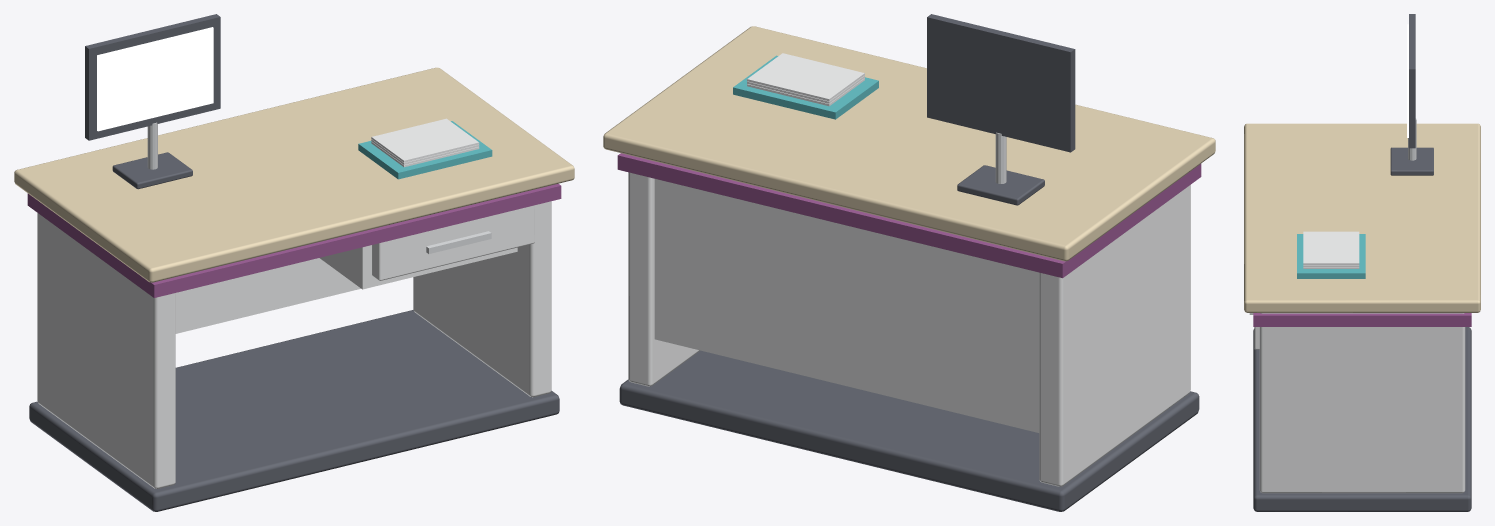
Rendered from pharmacy-and-high-street-chemist-consultation-desk-3e81dbdb__37526.glb.
3 renders of one model, left to right at view 1: azimuth 30°, elevation 25°; view 2: azimuth 150°, elevation 25°; view 3: azimuth 270°, elevation 25°, orthographic. The views are drawn at different scales.
Visible parts, largest first — view 1: consultation-desk, drawer-desk/white; view 2: consultation-desk; view 3: consultation-desk.
Part boxes in pixels (x1,y1,x2,y2): consultation-desk: (14,14,574,511); drawer-desk/white: (372,205,534,280); consultation-desk: (603,14,1215,511); consultation-desk: (1244,14,1480,511).
Bounding box in the file's own units: 1.36 × 1.2 × 0.76.
